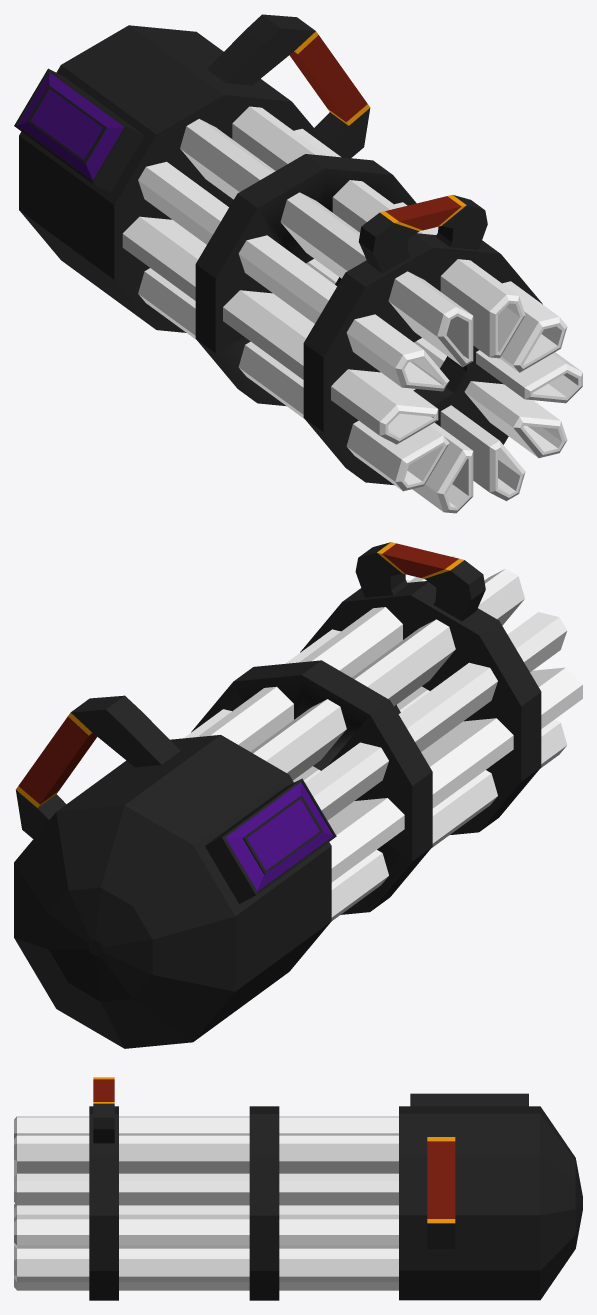
The model's file is LightLaserMachineGunW.fbx.
3 views of the same model, one above another, from view 1: azimuth 30°, elevation 25°; view 2: azimuth 150°, elevation 25°; view 3: azimuth 270°, elevation 25° (orthographic). The views are drawn at different scales.
Visible parts, largest first — view 1: LLMG.001, LLMG; view 2: LLMG.001, LLMG; view 3: LLMG, LLMG.001.
Part boxes in pixels (x1,y1,x2,y2): LLMG.001: (14,14,542,485); LLMG: (122,105,582,513); LLMG.001: (14,542,541,1048); LLMG: (184,556,582,920); LLMG: (14,1116,398,1290); LLMG.001: (89,1077,582,1300).
Size of the model in its own units: 250 by 228 by 575.
Materials: 1 (1 with a texture image).
